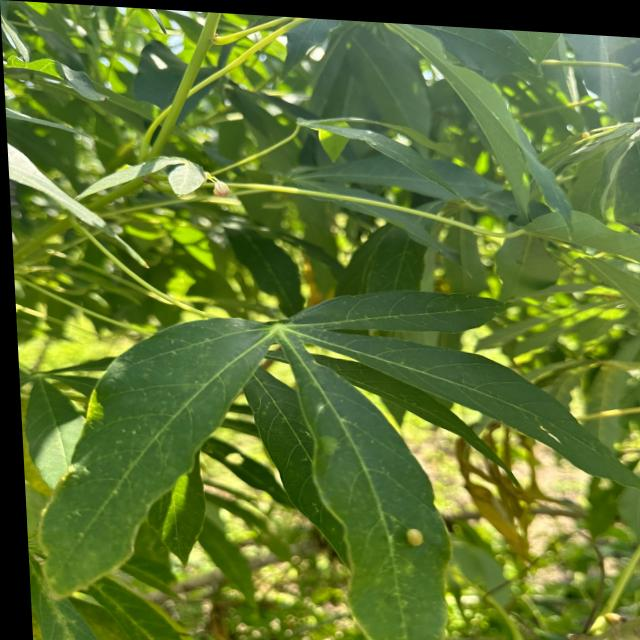Mosca: (201, 168, 246, 214), (311, 424, 353, 469), (204, 445, 254, 477), (401, 519, 434, 558), (53, 461, 89, 488)
